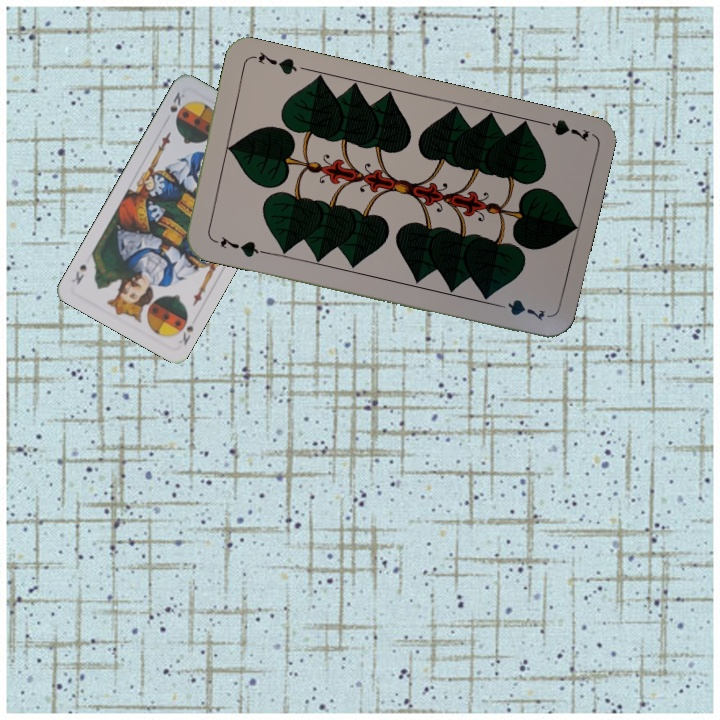G7: (533, 115, 592, 144), (208, 233, 266, 260)
SK: (172, 311, 196, 348), (166, 87, 188, 115)
